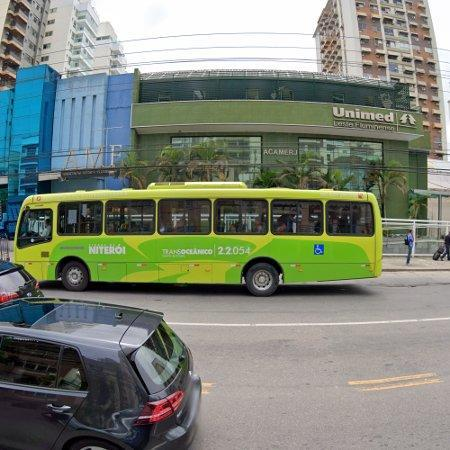buses: (14, 183, 383, 296)
